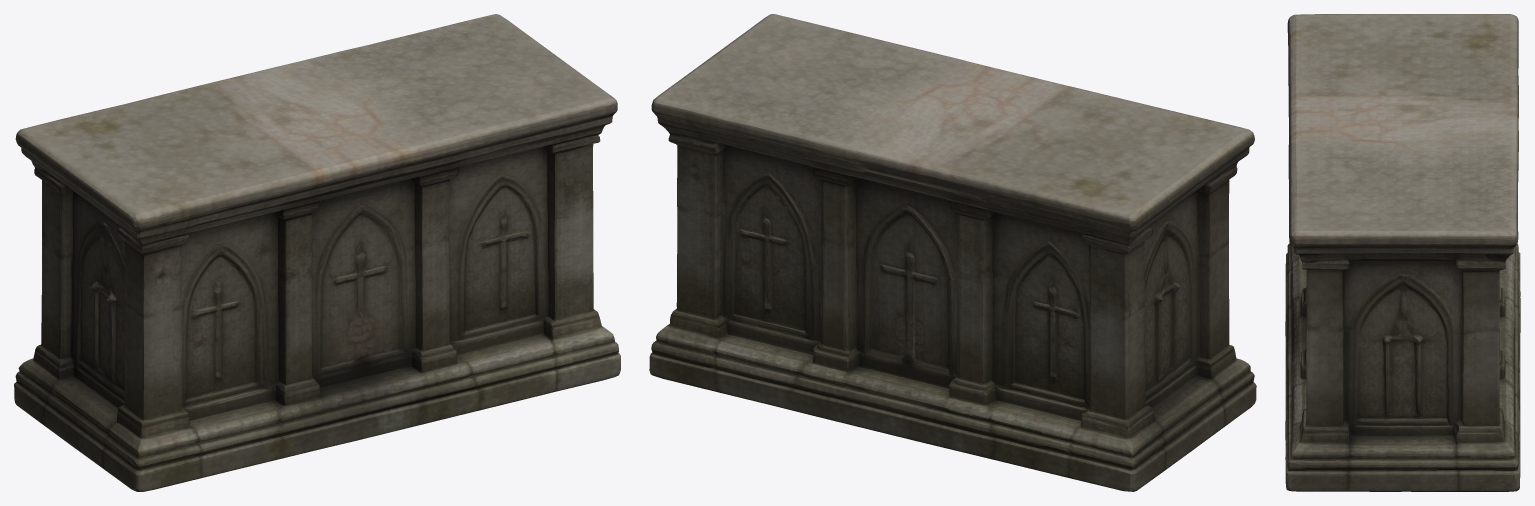
File: altar.glb
The picture shows the model from 3 angles, left to right: view 1: azimuth 30°, elevation 25°; view 2: azimuth 150°, elevation 25°; view 3: azimuth 270°, elevation 25°; orthographic projection. The views are drawn at different scales.
Parts seen in each view (by area): view 1: world; view 2: world; view 3: world.
Part boxes in pixels (left/top/right/bottom): world: left=14, top=14, right=620, bottom=491; world: left=649, top=14, right=1256, bottom=491; world: left=1285, top=14, right=1520, bottom=491.
Bounding box in the file's own units: 1 × 0.5419 × 0.4464.
Materials: 1 (1 with a texture image).
